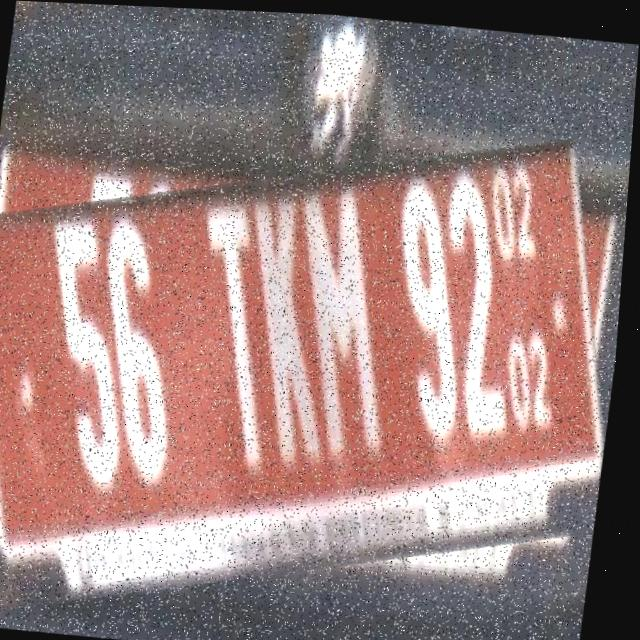LicensePlate: (0, 114, 633, 628)
